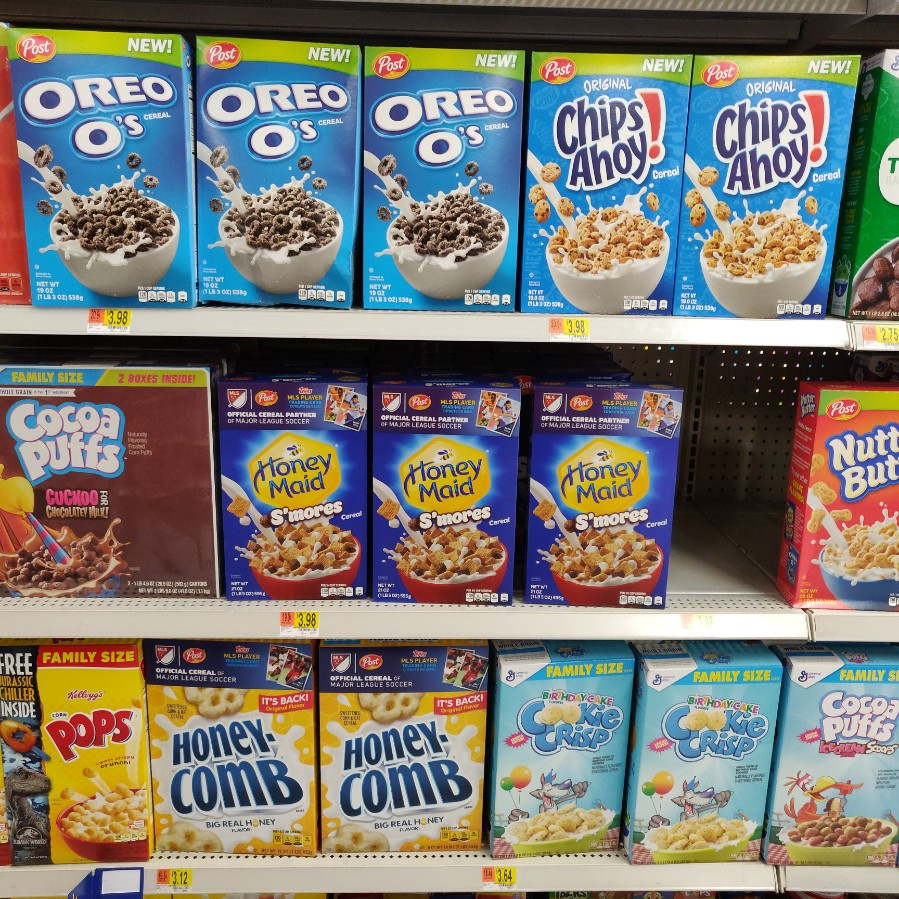Chips Ahoys-565717529: (682, 50, 854, 317), (516, 50, 685, 316)
Honey Comb- 009288857: (141, 643, 324, 859), (315, 641, 491, 858)
Oreo-563424384: (8, 31, 194, 310), (194, 36, 363, 323), (362, 37, 516, 313)
